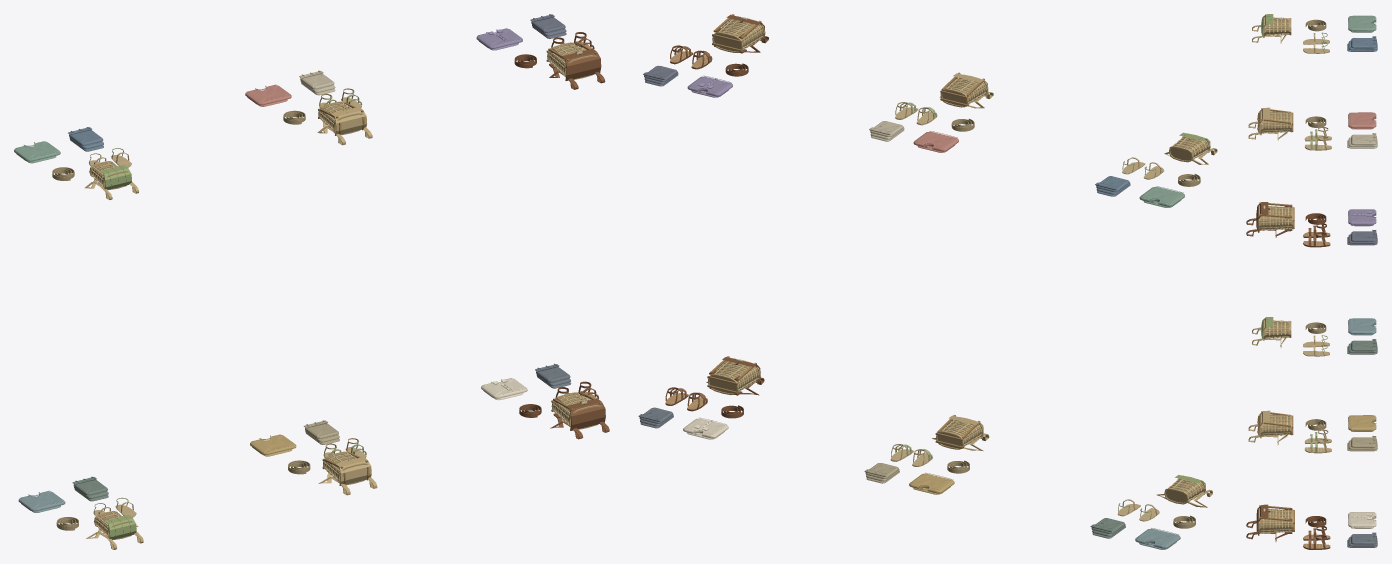
Rendered from katlanmış kıyafetler.fbx.
3 views of the same model, side by side, from view 1: azimuth 30°, elevation 25°; view 2: azimuth 150°, elevation 25°; view 3: azimuth 270°, elevation 25° (orthographic). The views are drawn at different scales.
Visible parts, largest first — view 1: Kadın 4 • Kapalı Çanta • Katlı Kopya, Erkek 4 • Kapalı Çanta • Katlı Kopya, Erkek 3 • Kapalı Çanta • Katlı Kopya, Kadın 3 • Kapalı Çanta • Katlı Kopya, Erkek 2 • Kapalı Çanta • Katlı Kopya, Kadın 2 • Kapalı Çanta • Katlı Kopya; view 2: Erkek 4 • Kapalı Çanta • Katlı Kopya, Kadın 4 • Kapalı Çanta • Katlı Kopya, Erkek 3 • Kapalı Çanta • Katlı Kopya, Kadın 3 • Kapalı Çanta • Katlı Kopya, Erkek 2 • Kapalı Çanta • Katlı Kopya, Kadın 2 • Kapalı Çanta • Katlı Kopya, Kadın 4 • Üst Kıyafet • Katlı Kopya; view 3: Erkek 4 • Kapalı Çanta • Katlı Kopya, Kadın 4 • Kapalı Çanta • Katlı Kopya, Erkek 3 • Kapalı Çanta • Katlı Kopya, Kadın 3 • Kapalı Çanta • Katlı Kopya, Erkek 2 • Kapalı Çanta • Katlı Kopya, Kadın 2 • Kapalı Çanta • Katlı Kopya, Kadın 3 • Üst Kıyafet • Katlı Kopya, Erkek 2 • Üst Kıyafet • Katlı Kopya, Kadın 2 • Üst Kıyafet • Katlı Kopya, Kadın 4 • Üst Kıyafet • Katlı Kopya, Erkek 3 • Üst Kıyafet • Katlı Kopya, Erkek 4 • Üst Kıyafet • Katlı Kopya (+18 smaller).
Boxes of the visible parts, bbox=[...] form: Kadın 4 • Kapalı Çanta • Katlı Kopya: bbox=[546, 41, 605, 89]; Erkek 4 • Kapalı Çanta • Katlı Kopya: bbox=[550, 392, 609, 439]; Erkek 3 • Kapalı Çanta • Katlı Kopya: bbox=[318, 451, 377, 495]; Kadın 3 • Kapalı Çanta • Katlı Kopya: bbox=[317, 101, 372, 145]; Erkek 2 • Kapalı Çanta • Katlı Kopya: bbox=[86, 511, 143, 549]; Kadın 2 • Kapalı Çanta • Katlı Kopya: bbox=[85, 161, 138, 199]; Erkek 4 • Kapalı Çanta • Katlı Kopya: bbox=[706, 356, 764, 395]; Kadın 4 • Kapalı Çanta • Katlı Kopya: bbox=[712, 14, 768, 53]; Erkek 3 • Kapalı Çanta • Katlı Kopya: bbox=[932, 415, 989, 451]; Kadın 3 • Kapalı Çanta • Katlı Kopya: bbox=[939, 72, 993, 108]; Erkek 2 • Kapalı Çanta • Katlı Kopya: bbox=[1156, 475, 1212, 507]; Kadın 2 • Kapalı Çanta • Katlı Kopya: bbox=[1164, 132, 1217, 164]; Kadın 4 • Üst Kıyafet • Katlı Kopya: bbox=[687, 75, 732, 97]; Erkek 4 • Kapalı Çanta • Katlı Kopya: bbox=[1246, 504, 1294, 541]; Kadın 4 • Kapalı Çanta • Katlı Kopya: bbox=[1246, 202, 1294, 237]; Erkek 3 • Kapalı Çanta • Katlı Kopya: bbox=[1248, 410, 1293, 444]; Kadın 3 • Kapalı Çanta • Katlı Kopya: bbox=[1248, 107, 1293, 140]; Erkek 2 • Kapalı Çanta • Katlı Kopya: bbox=[1252, 317, 1291, 347]; Kadın 2 • Kapalı Çanta • Katlı Kopya: bbox=[1252, 14, 1291, 43]; Kadın 3 • Üst Kıyafet • Katlı Kopya: bbox=[1348, 112, 1376, 129]; Erkek 2 • Üst Kıyafet • Katlı Kopya: bbox=[1348, 318, 1376, 335]; Kadın 2 • Üst Kıyafet • Katlı Kopya: bbox=[1348, 15, 1376, 32]; Kadın 4 • Üst Kıyafet • Katlı Kopya: bbox=[1348, 209, 1376, 226]; Erkek 3 • Üst Kıyafet • Katlı Kopya: bbox=[1348, 415, 1376, 431]; Erkek 4 • Üst Kıyafet • Katlı Kopya: bbox=[1348, 512, 1376, 528].
Size of the model in its own units: 4.74 by 3.12 by 1.15.
